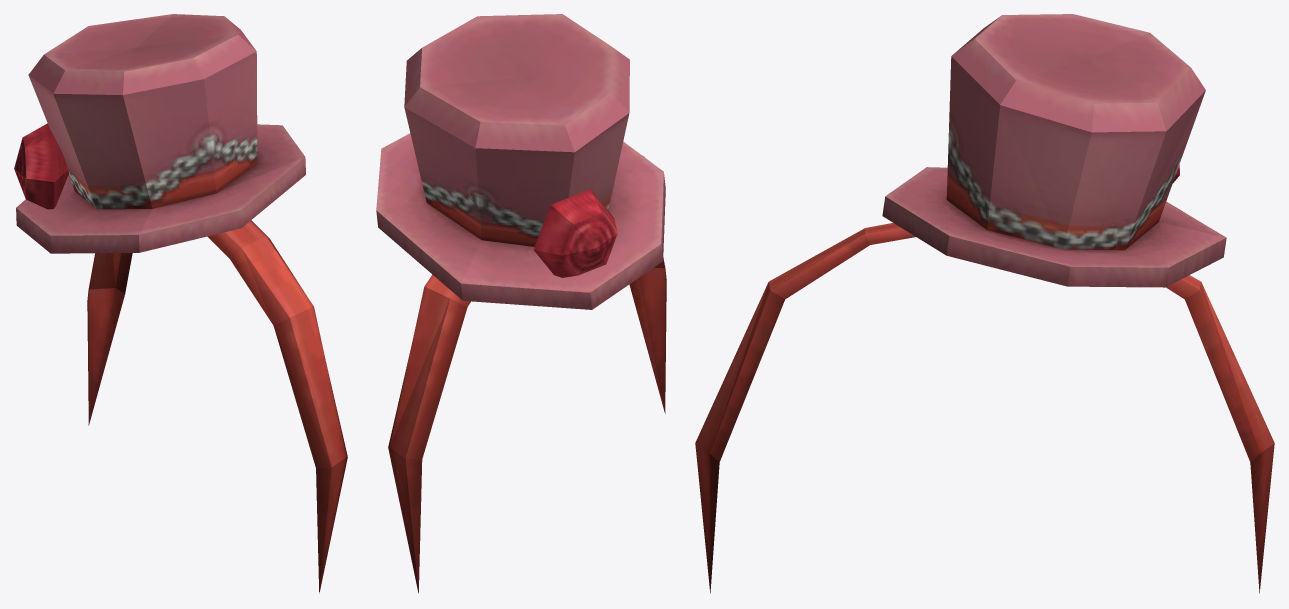
Rendered from Sheep_superStarHat.obj.
3 views of the same model, side by side, from view 1: azimuth 30°, elevation 25°; view 2: azimuth 150°, elevation 25°; view 3: azimuth 270°, elevation 25° (orthographic). The views are drawn at different scales.
Parts seen in each view (by area): view 1: Sheep_superStarHat_tri; view 2: Sheep_superStarHat_tri; view 3: Sheep_superStarHat_tri.
Boxes of the visible parts, left/top/right/bottom form: Sheep_superStarHat_tri: left=14, top=14, right=347, bottom=593; Sheep_superStarHat_tri: left=376, top=14, right=666, bottom=593; Sheep_superStarHat_tri: left=695, top=14, right=1274, bottom=593.
Bounding box in the file's own units: 0.1379 × 0.2443 × 0.2344.
1 material, 1 textured.
